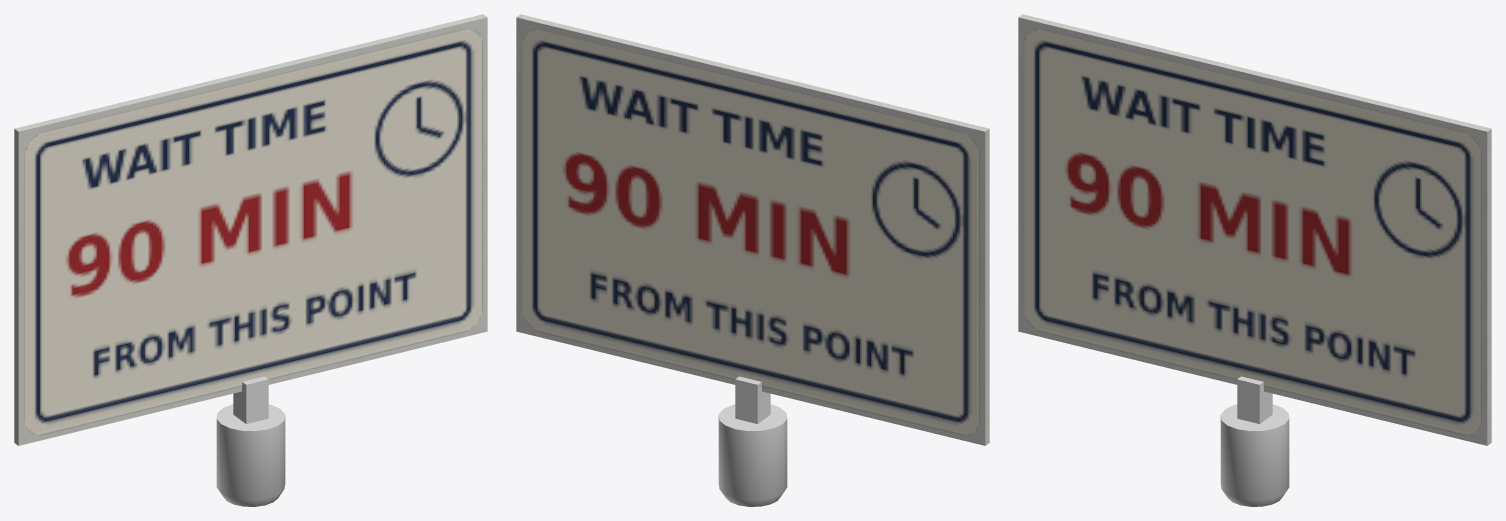
Rendered from SM_QUE_Sign_Wait_90.fbx.
3 views of the same model, side by side, from view 1: azimuth 30°, elevation 25°; view 2: azimuth 150°, elevation 25°; view 3: azimuth 330°, elevation 25° (orthographic).
Visible parts, largest first — view 1: SM_QUE_Sign_Wait_90; view 2: SM_QUE_Sign_Wait_90; view 3: SM_QUE_Sign_Wait_90.
Boxes of the visible parts, bbox=[...] form: SM_QUE_Sign_Wait_90: bbox=[14, 14, 487, 506]; SM_QUE_Sign_Wait_90: bbox=[516, 14, 989, 506]; SM_QUE_Sign_Wait_90: bbox=[1018, 14, 1491, 506].
Size of the model in its own units: 0.5 by 0.43 by 0.064.
